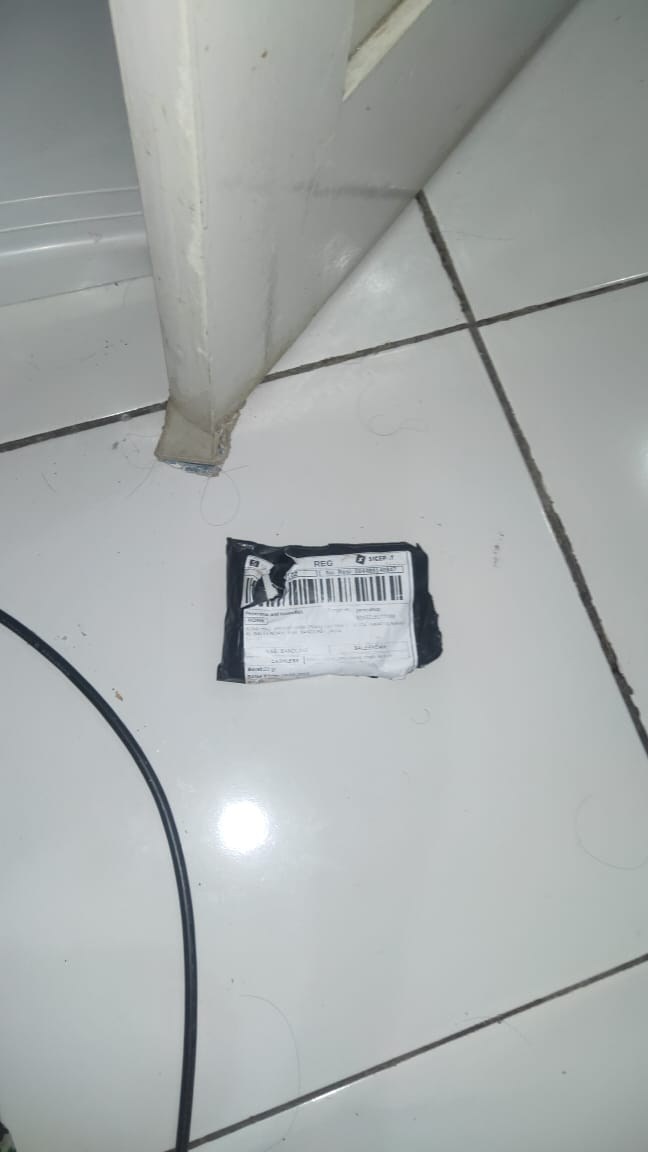undamaged: (216, 537, 445, 690), (241, 547, 296, 613)
